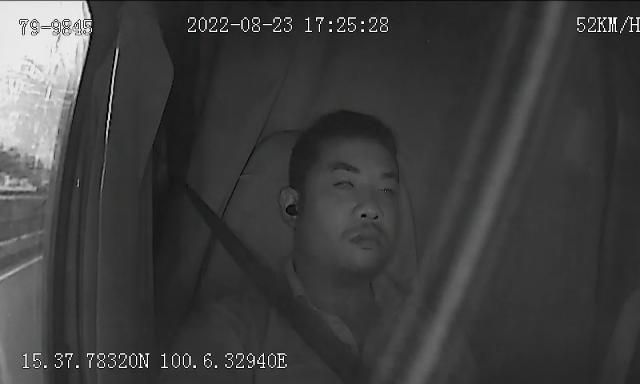SafeDriving: (274, 188, 309, 227)
Seatbelt: (178, 176, 370, 384)
